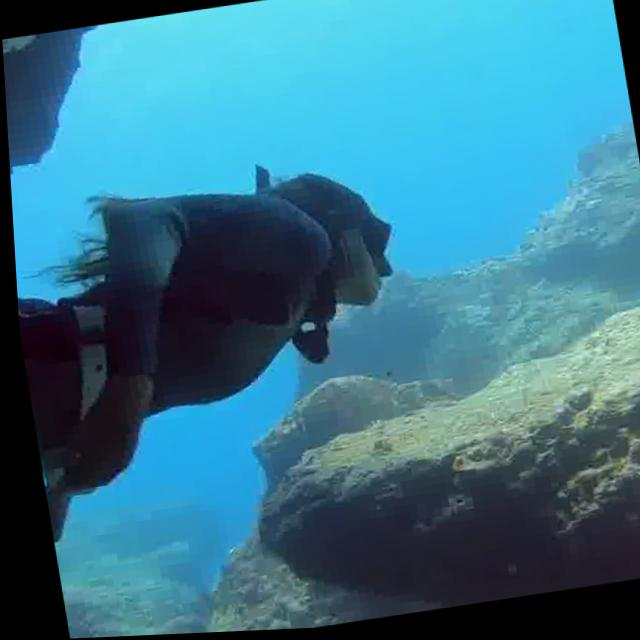human: (7, 137, 441, 566)
